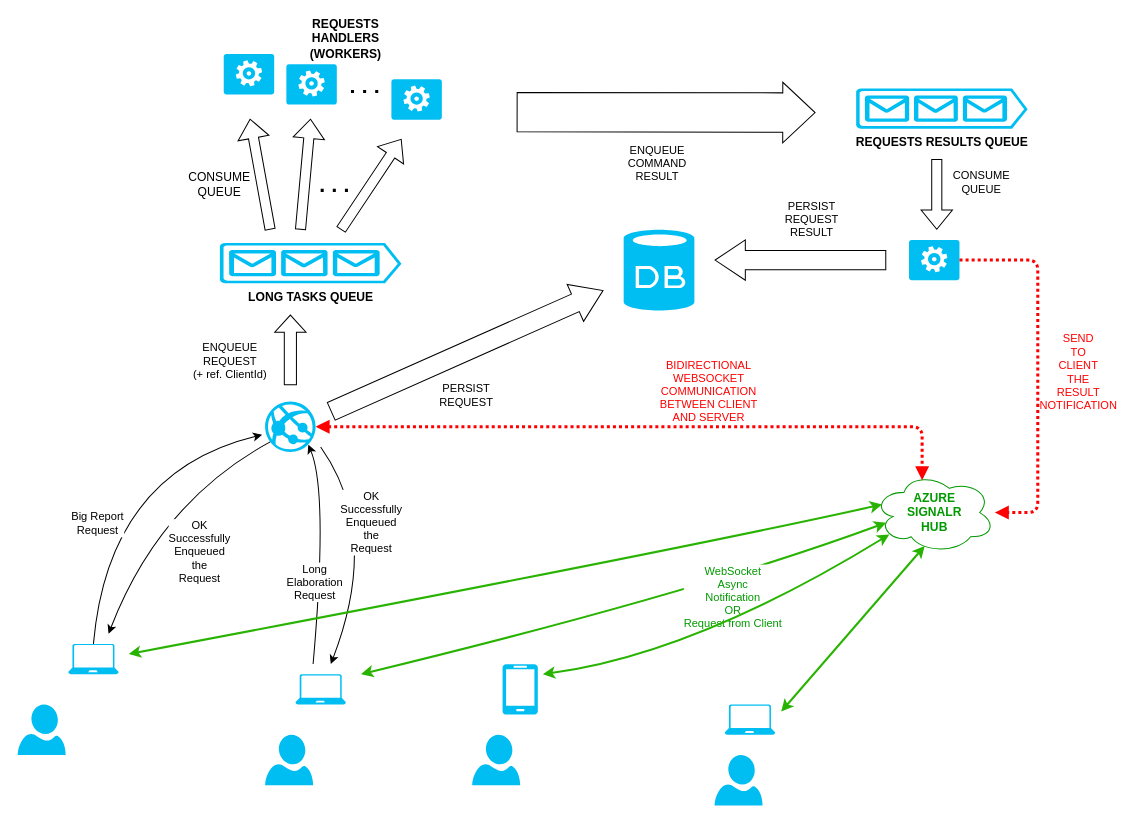
This 1134x823 diagram has some shape labels left out. Each missing label, with the centre of its shape:
"REQUESTS RESULTS HANDLER (WORKER)" goes at point (933, 259).
"Web Site" goes at point (290, 426).
